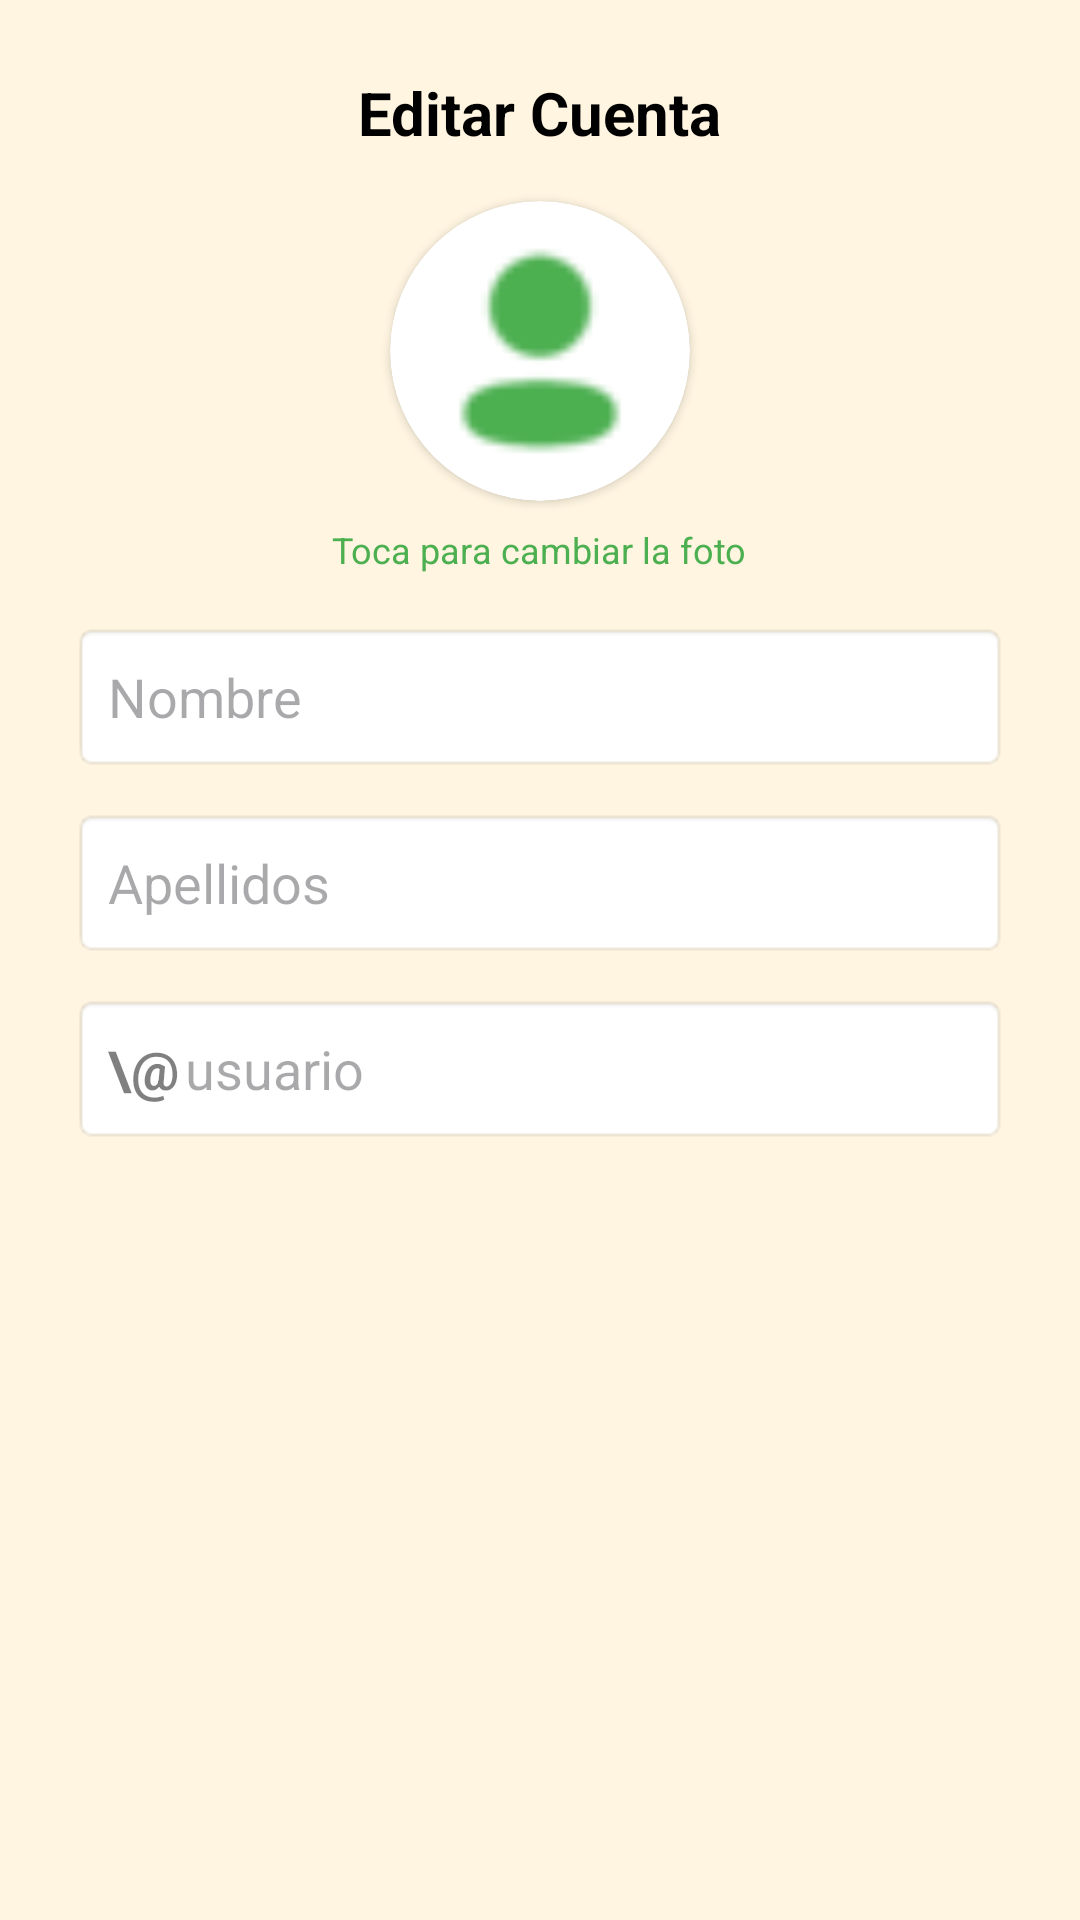

Named icons in this screenshot (1080 × 1920) and their centers, (x=x, y=y):
profile: (x=540, y=351)
